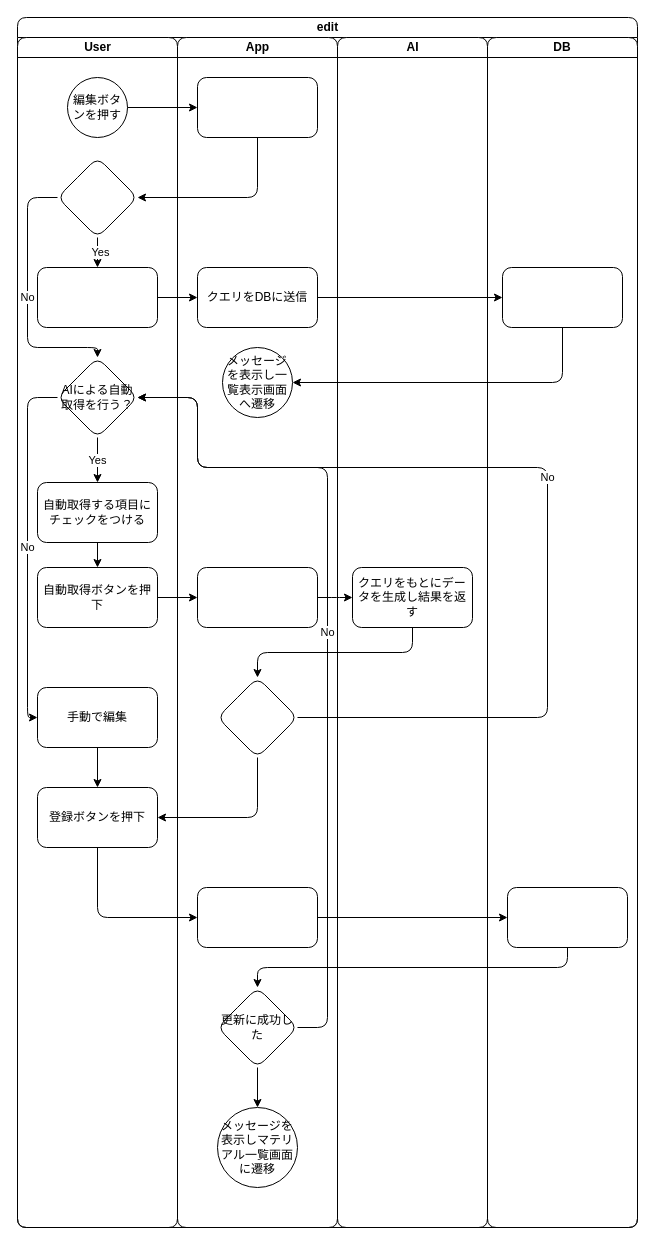
Image size: 655x1245. Some labels were removed from this diagram. Each missing label, with the centre of its shape:
"DBを更新し結果を返す" goes at point 567,917.
"チェック項目を確認しAIへクエリを送信" goes at point 257,597.
"マテリアルを削除する？" goes at point 97,197.
"入力を受け取りDBへクエリを送信" goes at point 257,917.
"削除ボタンを押下" goes at point 97,297.
"削除処理を実行し結果を返す" goes at point 562,297.
"結果を正しく取得できた？" goes at point 257,717.
"編集用ページを表示" goes at point 257,107.
